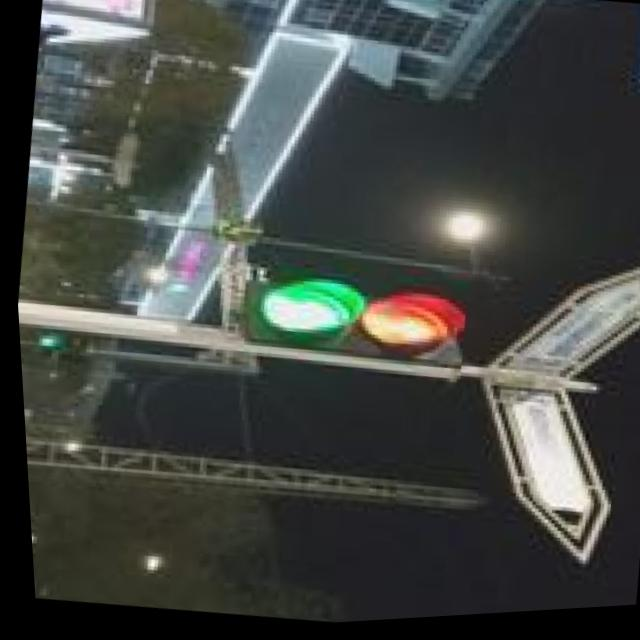green_light: (227, 240, 392, 382)
red_light: (336, 263, 473, 417)
